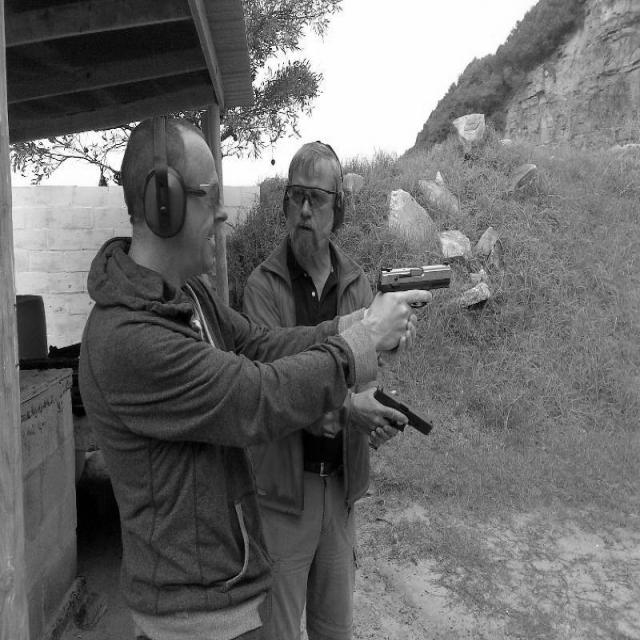gun: (375, 256, 451, 323), (366, 386, 435, 455)
